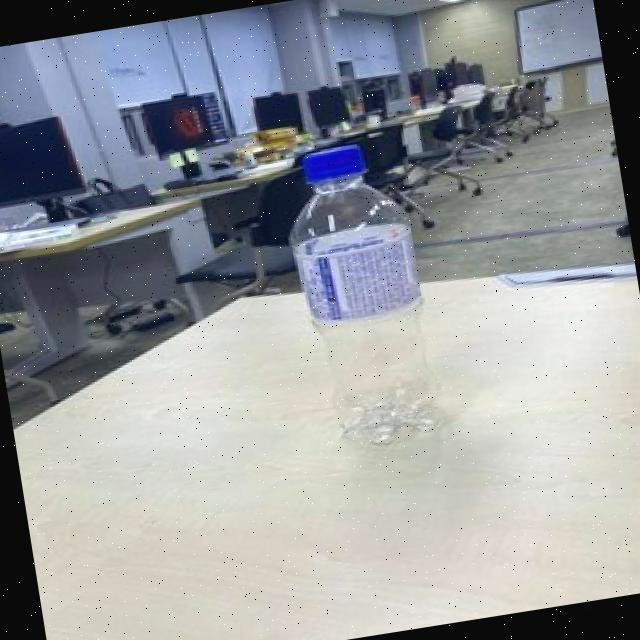bottle: (273, 128, 452, 464)
cap: (290, 141, 372, 194)
label: (282, 218, 442, 332)
